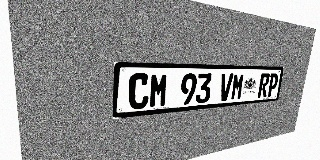3: (195, 73, 212, 104)
9: (180, 73, 198, 105)
C: (128, 73, 150, 110)
M: (149, 73, 169, 108), (230, 73, 245, 100)
P: (266, 73, 279, 97)
R: (257, 73, 270, 98)
V: (218, 73, 234, 101)
